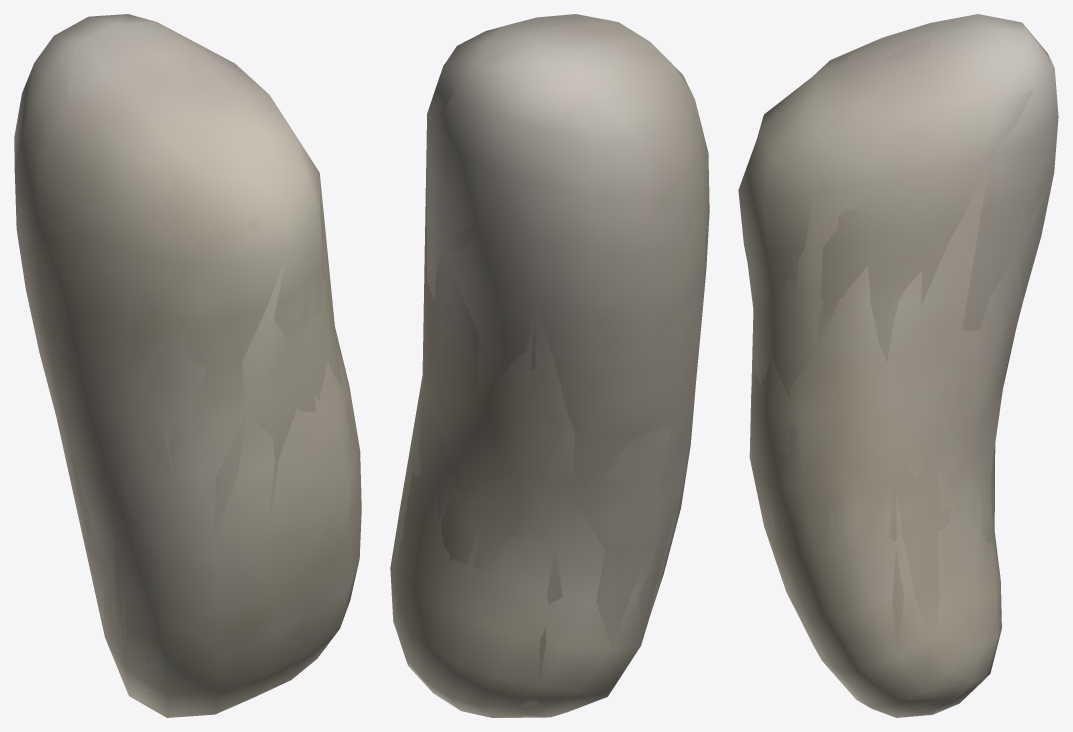
File: R metacarpi primum.fbx
The picture shows the model from 3 angles, left to right: view 1: azimuth 30°, elevation 25°; view 2: azimuth 150°, elevation 25°; view 3: azimuth 270°, elevation 25°; orthographic projection. The views are drawn at different scales.
Parts seen in each view (by area): view 1: R metacarpi primum, R metacarpi primum low, R metacarpi primum high; view 2: R metacarpi primum, R metacarpi primum low, R metacarpi primum high; view 3: R metacarpi primum, R metacarpi primum low, R metacarpi primum high.
Part boxes in pixels (box(x1,y1,x2,y2)): R metacarpi primum: box(14, 14, 361, 717); R metacarpi primum low: box(15, 14, 359, 716); R metacarpi primum high: box(55, 29, 354, 694); R metacarpi primum: box(390, 14, 709, 717); R metacarpi primum low: box(390, 23, 702, 706); R metacarpi primum high: box(397, 22, 694, 716); R metacarpi primum: box(738, 14, 1058, 717); R metacarpi primum low: box(741, 14, 1053, 717); R metacarpi primum high: box(753, 23, 1037, 693).
Bounding box in the file's own units: 0.4213 × 0.9396 × 0.4202.
1 material, 1 textured.
